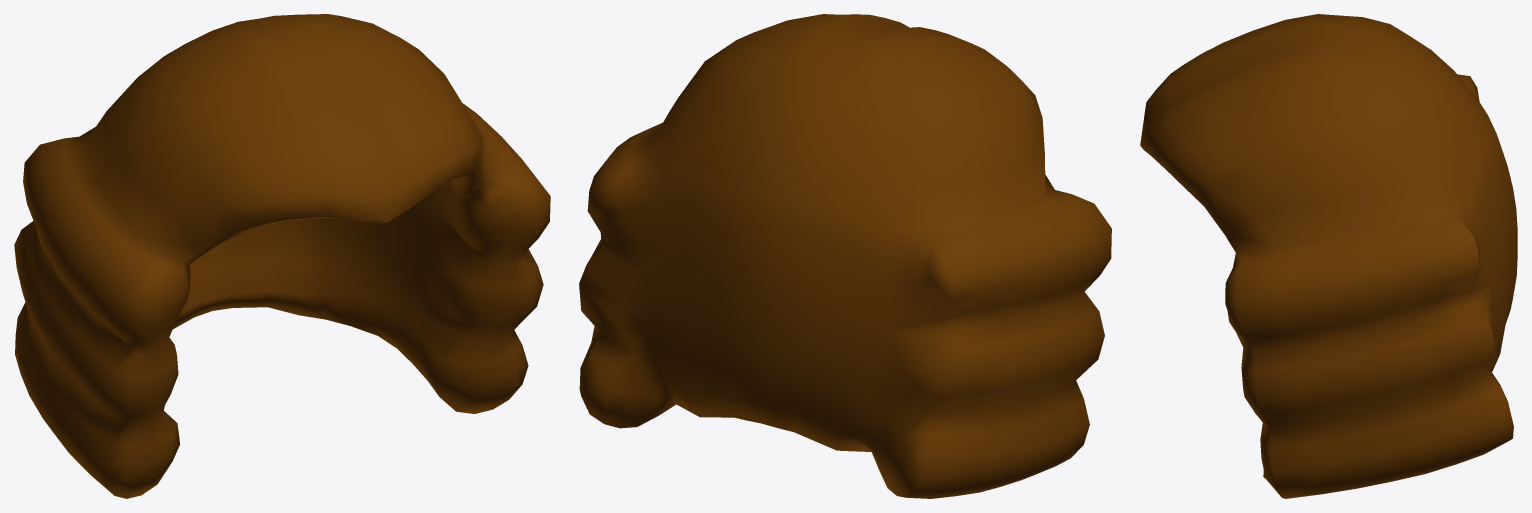
File: Hair_Newton.fbx
The picture shows the model from 3 angles, left to right: view 1: azimuth 30°, elevation 25°; view 2: azimuth 150°, elevation 25°; view 3: azimuth 270°, elevation 25°; orthographic projection. The views are drawn at different scales.
Parts seen in each view (by area): view 1: Hair_Newton; view 2: Hair_Newton; view 3: Hair_Newton.
Part boxes in pixels (<box>): Hair_Newton: <box>14,14,550,498</box>; Hair_Newton: <box>579,14,1111,498</box>; Hair_Newton: <box>1140,14,1517,498</box>.
Size of the model in its own units: 76.18 by 66.61 by 59.96.
